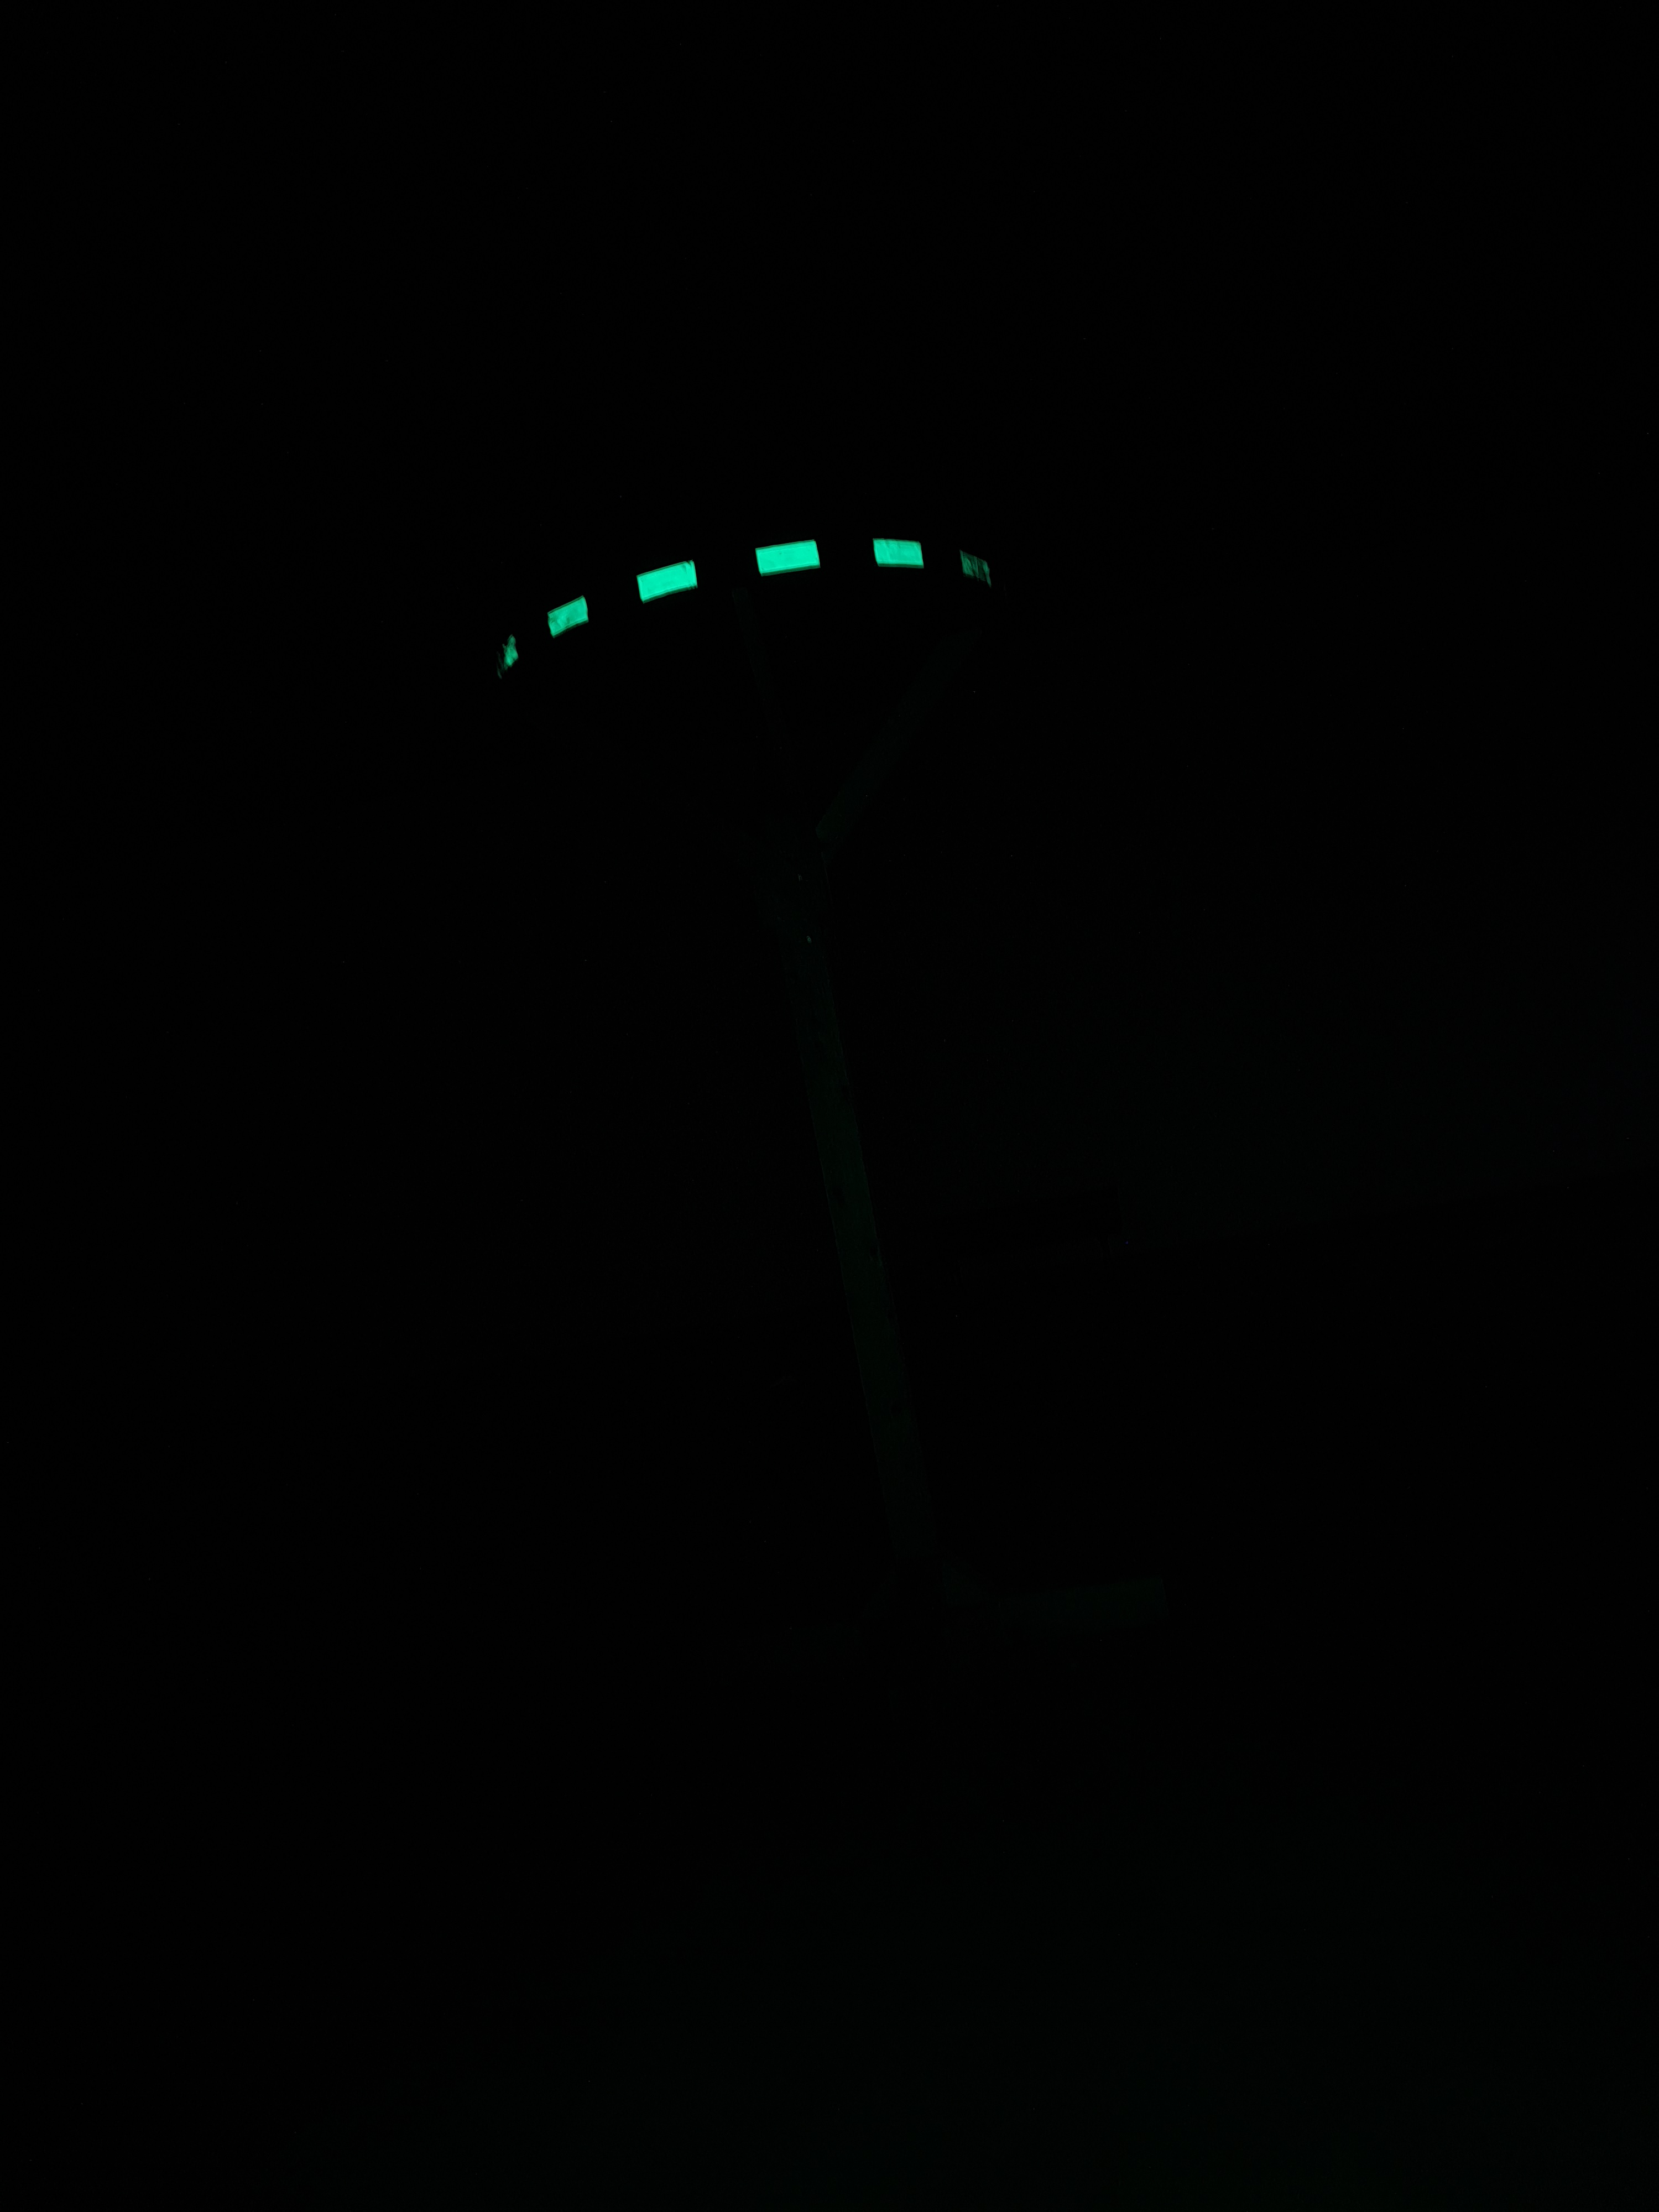hoop: (490, 526, 999, 688)
